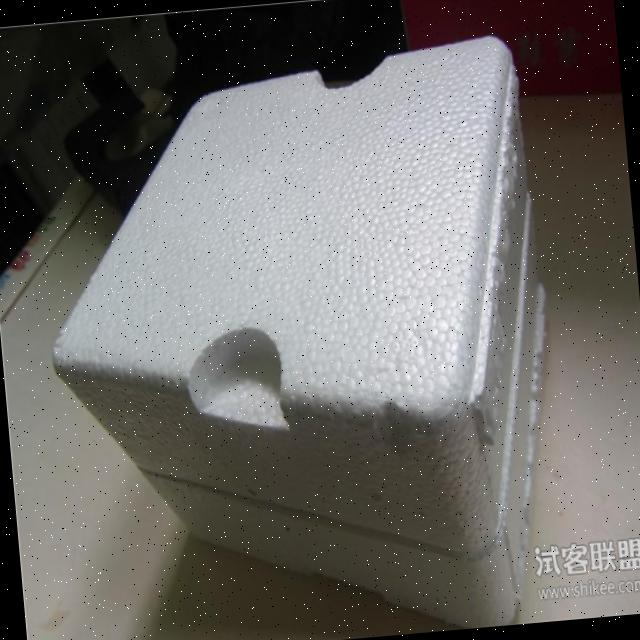styrofoam: (24, 28, 575, 640)
